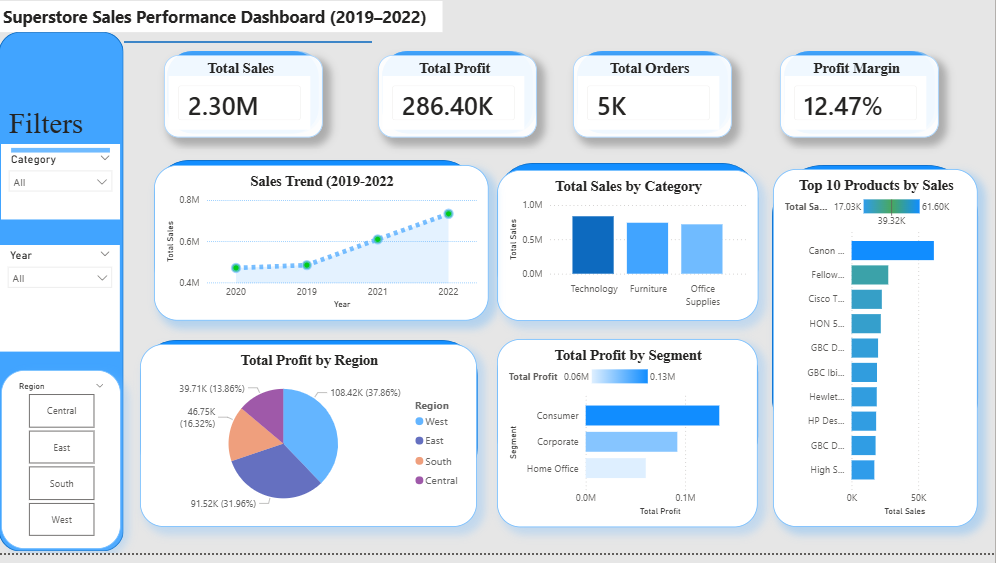

Layout of this report page (visuals, bound fields, positions):
{"tool":"powerbi","page":{"name":"Dashboard","canvas":[1280,720],"ordinal":0},"visuals":[{"type":"shape","box":[0,50,160,667.1],"z":0},{"type":"textbox","box":[0,10,570,40],"z":1000},{"type":"shape","box":[210.8,69.5,205.1,116.2],"z":2000},{"type":"shape","box":[160,57.1,318.6,12.9],"z":3000},{"type":"shape","box":[487.6,69.5,203.9,116.2],"z":4000},{"type":"shape","box":[738.2,69.5,203.9,116.2],"z":5000},{"type":"shape","box":[1003.7,69.5,203.9,116.2],"z":6000},{"type":"textbox","box":[8.3,141.7,145,55],"z":7000},{"type":"shape","box":[640,218.6,335.7,182.9],"z":8000},{"type":"shape","box":[993.3,221.7,265,365],"z":9000},{"type":"shape","box":[181.4,445.7,434.3,184.3],"z":10000},{"type":"cardVisual","title":"Total Sales","fields":{"Data":["superstore_dataset.Total Sales"]},"box":[211.9,79.7,203.9,105.9],"z":11000},{"type":"clusteredColumnChart","fields":{"Category":["DimProducts.Category"],"Y":["superstore_dataset.Total Sales"]},"box":[640,227.1,335.7,194.3],"z":12000},{"type":"pieChart","fields":{"Category":["DimRegion.Region"],"Y":["superstore_dataset.Total Profit"]},"box":[181.7,451.7,433.3,235],"z":13000},{"type":"slicer","fields":{"Values":["DimRegion.Region"]},"box":[2.9,484.3,154.3,230],"z":14000},{"type":"slicer","fields":{"Values":["DimProducts.Category"]},"box":[2.9,194.3,152.9,97.1],"z":15000},{"type":"clusteredBarChart","title":"Top 10 Products by Sales","fields":{"Y":["superstore_dataset.Total Sales"],"Category":["DimProducts.ProductName"]},"box":[995,226.7,263.3,460],"z":16000},{"type":"cardVisual","title":"Total Orders","fields":{"Data":["superstore_dataset.Total Orders"]},"box":[738.2,79.7,203.9,105.9],"z":17000},{"type":"cardVisual","title":"Total Profit","fields":{"Data":["superstore_dataset.Total Profit"]},"box":[487.6,79.7,203.9,105.9],"z":18000},{"type":"cardVisual","title":"Profit Margin","fields":{"Data":["superstore_dataset.Profit Margin"]},"box":[1003.7,79.7,203.9,105.9],"z":19000},{"type":"shape","box":[198.6,214.3,415.7,180],"z":20000},{"type":"lineChart","title":"Sales Trend (2019-2022","fields":{"Y":["superstore_dataset.Total Sales"],"Category":["Dates.Year"]},"box":[198.6,221.4,430,200],"z":21000},{"type":"shape","box":[640,445.7,335.7,165.7],"z":22000},{"type":"clusteredBarChart","fields":{"Y":["superstore_dataset.Total Profit"],"Category":["DimCustomers.Segment"]},"box":[640,445,335,241.7],"z":23000},{"type":"slicer","fields":{"Values":["Dates.Year"]},"box":[1.4,324.3,154.3,137.1],"z":24000}]}

Visuals, with their boxes in screenshot pixels (x1, y1, x2, y2), scaled from the page's 1280x720 canvas onto the 996x563 screenshot:
shape: crop(0, 39, 124, 561)
textbox: crop(0, 8, 444, 39)
shape: crop(164, 54, 324, 145)
shape: crop(124, 45, 372, 55)
shape: crop(379, 54, 538, 145)
shape: crop(574, 54, 733, 145)
shape: crop(781, 54, 940, 145)
textbox: crop(6, 111, 119, 154)
shape: crop(498, 171, 759, 314)
shape: crop(773, 173, 979, 459)
shape: crop(141, 349, 479, 493)
"Total Sales" cardVisual: crop(165, 62, 324, 145)
clusteredColumnChart - DimProducts.Category x superstore_dataset.Total Sales: crop(498, 178, 759, 330)
pieChart - DimRegion.Region x superstore_dataset.Total Profit: crop(141, 353, 479, 537)
slicer - DimRegion.Region: crop(2, 379, 122, 559)
slicer - DimProducts.Category: crop(2, 152, 121, 228)
"Top 10 Products by Sales" clusteredBarChart: crop(774, 177, 979, 537)
"Total Orders" cardVisual: crop(574, 62, 733, 145)
"Total Profit" cardVisual: crop(379, 62, 538, 145)
"Profit Margin" cardVisual: crop(781, 62, 940, 145)
shape: crop(155, 168, 478, 308)
"Sales Trend (2019-2022" lineChart: crop(155, 173, 489, 330)
shape: crop(498, 349, 759, 478)
clusteredBarChart - superstore_dataset.Total Profit x DimCustomers.Segment: crop(498, 348, 759, 537)
slicer - Dates.Year: crop(1, 254, 121, 361)
